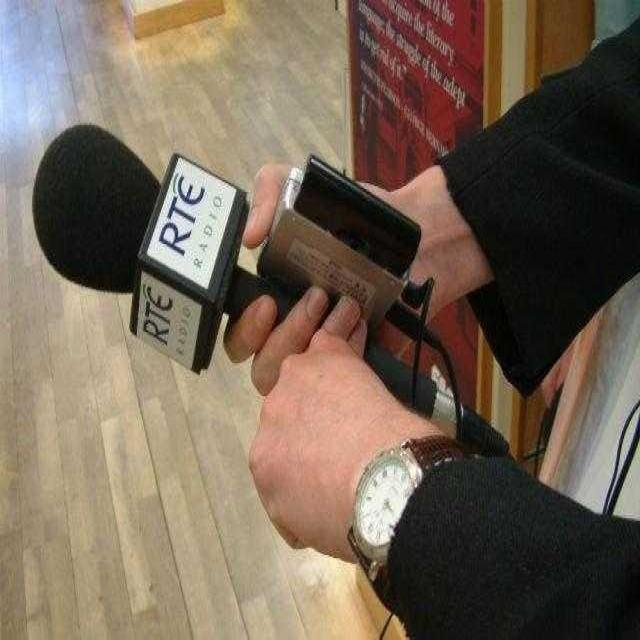microphone: (26, 101, 452, 412)
